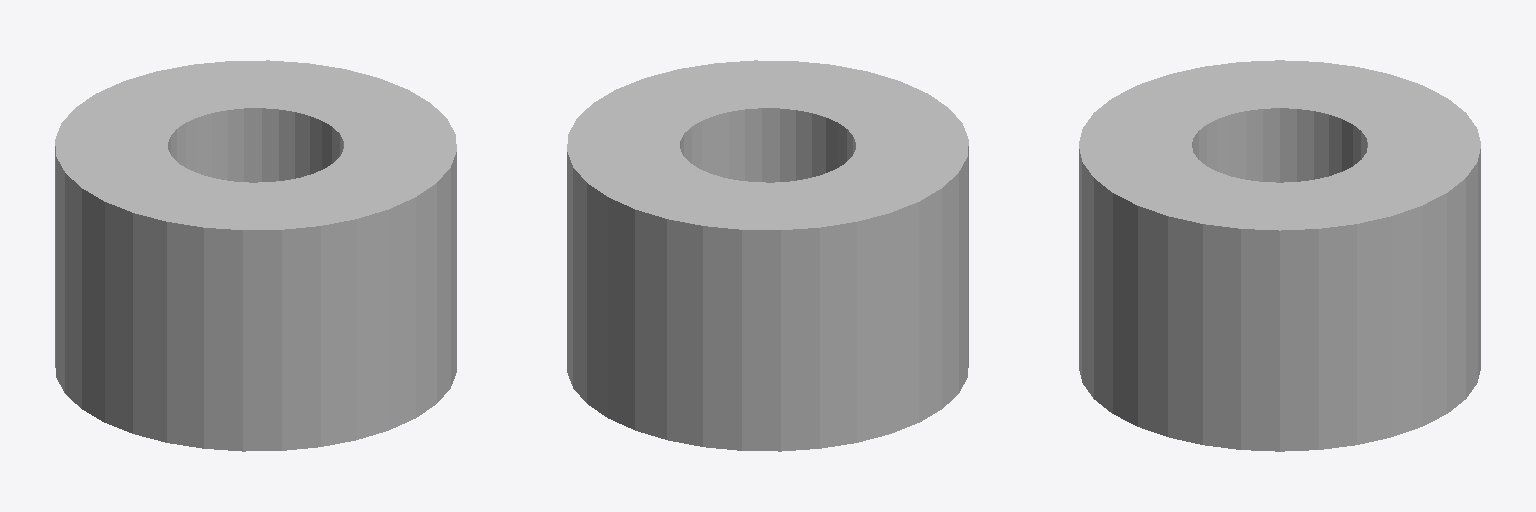
The model's file is Holzzylinder1.obj.
3 renders of one model, left to right at view 1: azimuth 30°, elevation 25°; view 2: azimuth 150°, elevation 25°; view 3: azimuth 270°, elevation 25°, orthographic.
Parts seen in each view (by area): view 1: Holzzylinder.001_Cylinder.032; view 2: Holzzylinder.001_Cylinder.032; view 3: Holzzylinder.001_Cylinder.032.
Boxes of the visible parts, x1=… form: Holzzylinder.001_Cylinder.032: x1=55, y1=60, x2=456, y2=451; Holzzylinder.001_Cylinder.032: x1=567, y1=60, x2=968, y2=451; Holzzylinder.001_Cylinder.032: x1=1079, y1=60, x2=1480, y2=451.
Size of the model in its own units: 0.5332 by 0.323 by 0.5332.